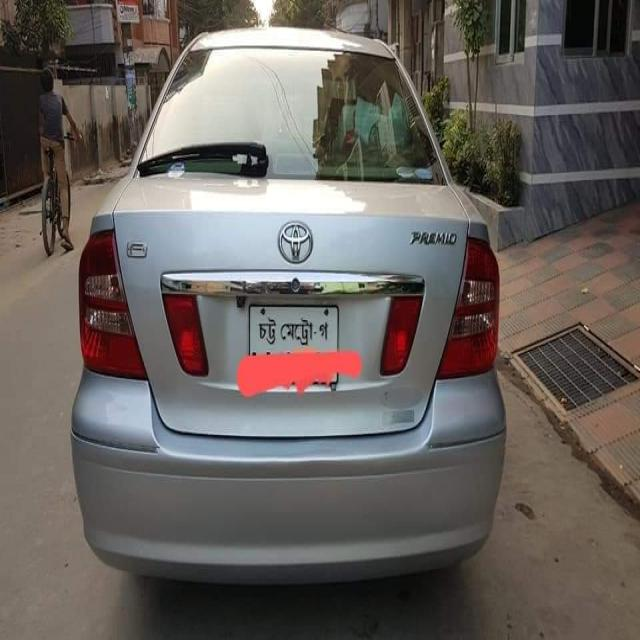silver: (69, 29, 504, 588)
